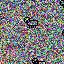sheep: (24, 17, 39, 29), (31, 57, 46, 64), (59, 0, 64, 9)
